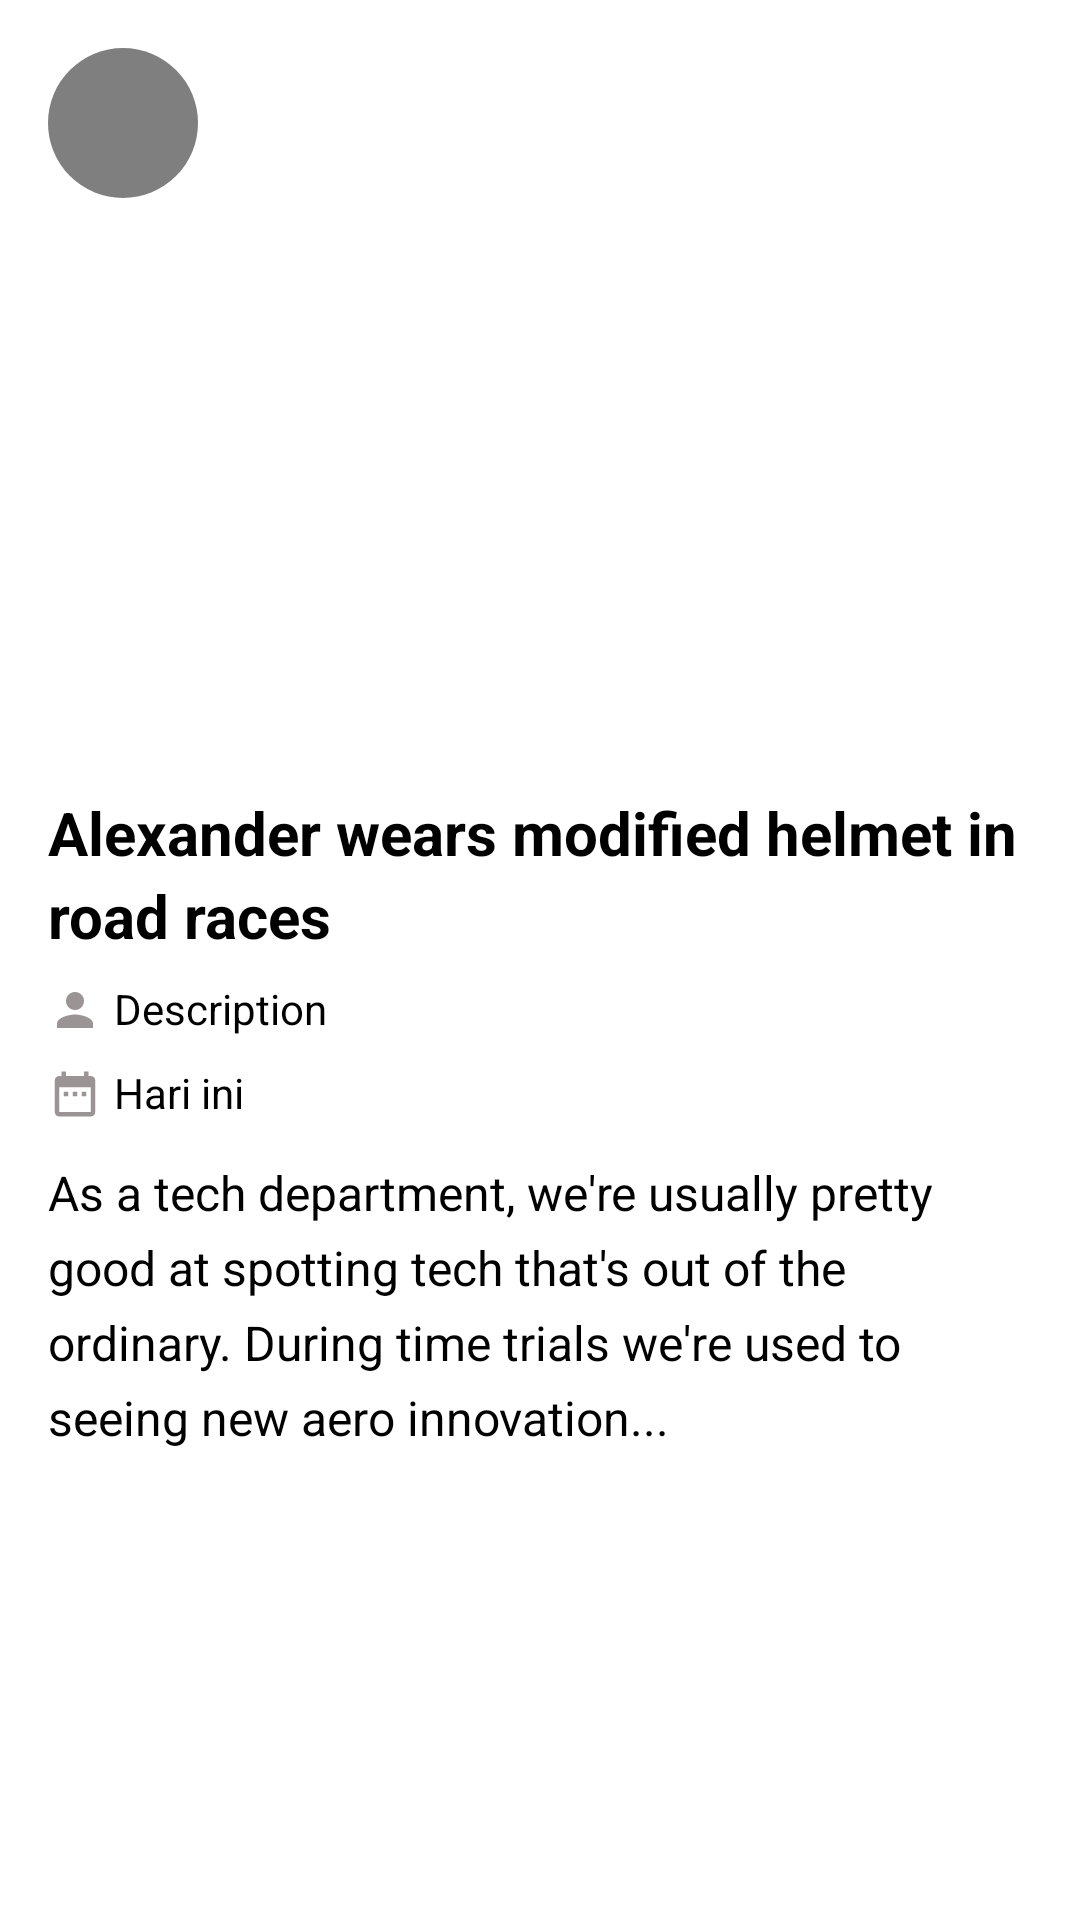

Point at icon controls on the screen. Image size 1080px×1920px, points as (x=x, y=y).
date: (x=75, y=1094)
person: (x=75, y=1010)
